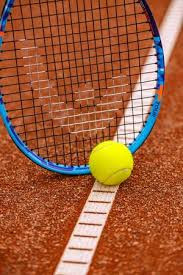tennis_ball: (89, 140, 134, 186)
